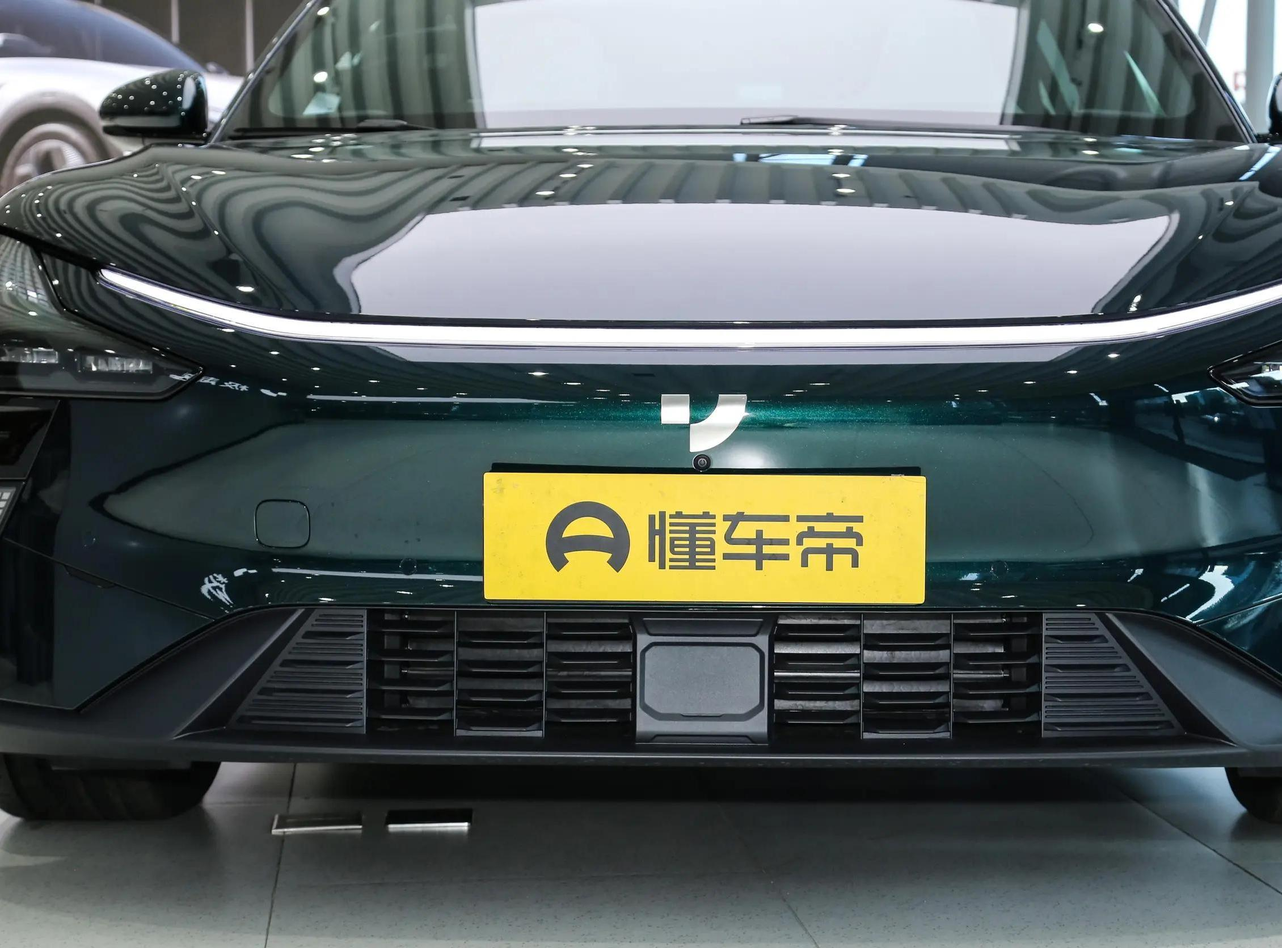JIYUE: (661, 392, 748, 452)
